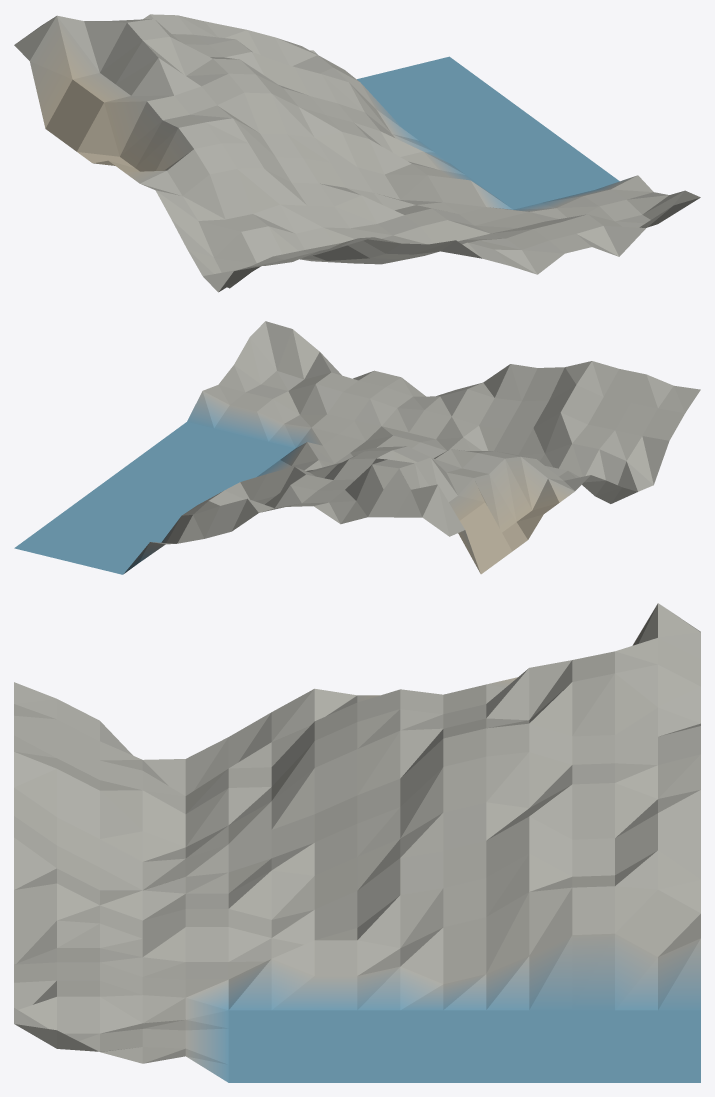
3 renders of one model, top to bottom at view 1: azimuth 30°, elevation 25°; view 2: azimuth 150°, elevation 25°; view 3: azimuth 270°, elevation 25°, orthographic. The views are drawn at different scales.
Size of the model in its own units: 32 by 10.68 by 32.
